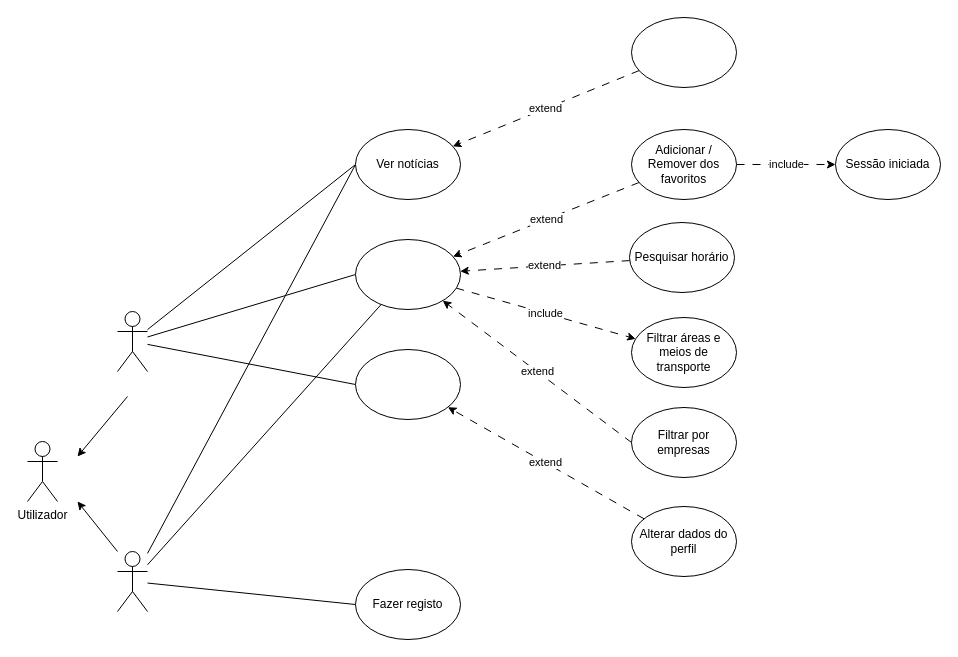
Image size: 958x657. Some labels were removed from this diagram. Each missing label, with the box of its shape:
Novo utilizador: (116, 550, 148, 612)
Pesquisar notícia: (630, 16, 736, 88)
Utilizador registado: (116, 310, 148, 372)
Ver horários: (354, 238, 460, 310)
Ver perfil: (354, 348, 460, 420)
